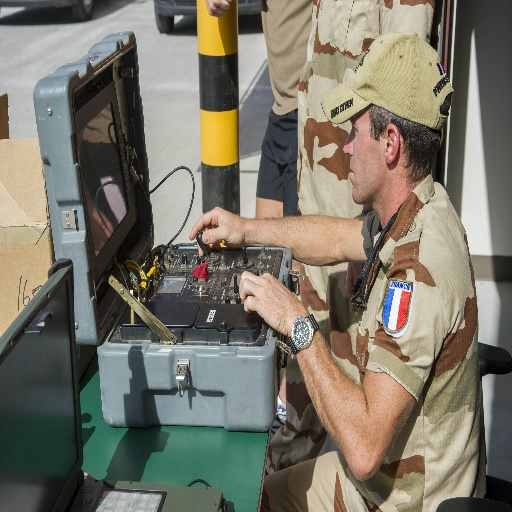hand: (238, 269, 304, 334), (190, 207, 241, 247), (205, 0, 232, 18)
